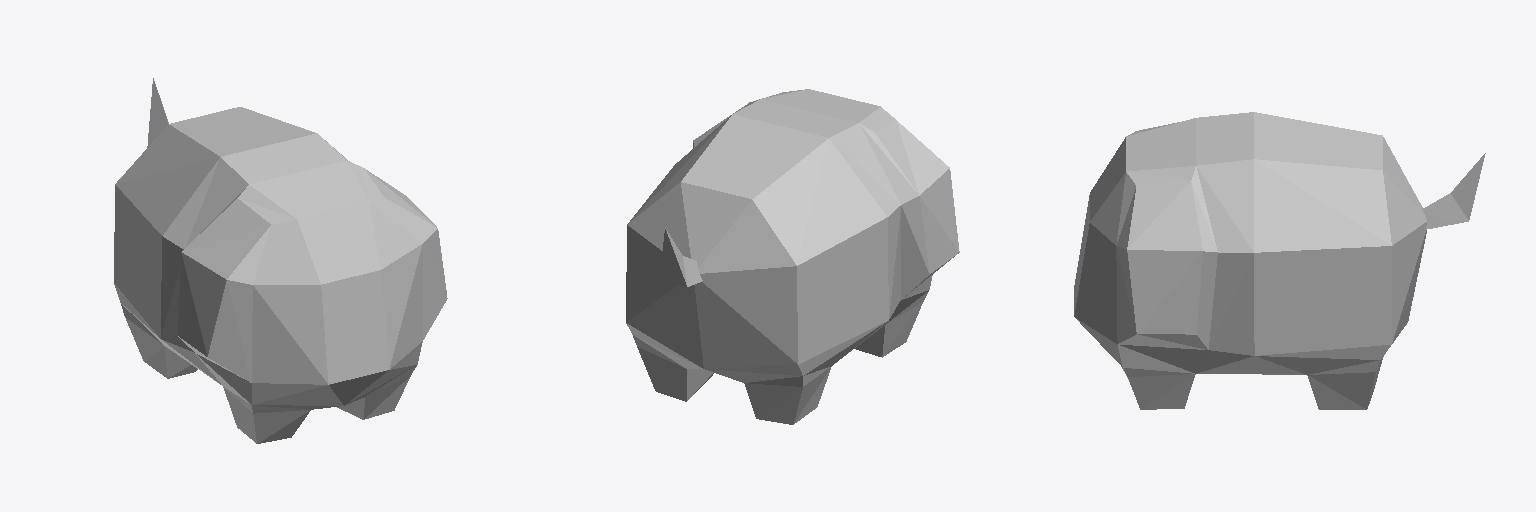
Rendered from Dog [A].obj.
3 renders of one model, left to right at view 1: azimuth 30°, elevation 25°; view 2: azimuth 150°, elevation 25°; view 3: azimuth 270°, elevation 25°, orthographic.
Parts seen in each view (by area): view 1: polygon0, polygon1; view 2: polygon1, polygon0; view 3: polygon1, polygon0.
Part boxes in pixels (bbox=[...]): polygon0: bbox=[161, 133, 447, 413]; polygon1: bbox=[114, 78, 410, 443]; polygon1: bbox=[626, 114, 922, 424]; polygon0: bbox=[693, 89, 959, 324]; polygon1: bbox=[1123, 112, 1485, 409]; polygon0: bbox=[1074, 112, 1254, 376].
Size of the model in its own units: 1.3 by 1.24 by 1.93.